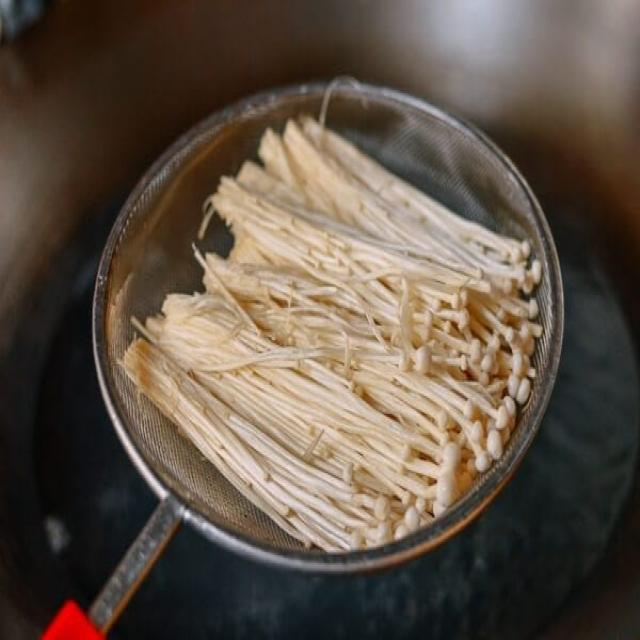Flammulina velutiper: (118, 118, 548, 552)
